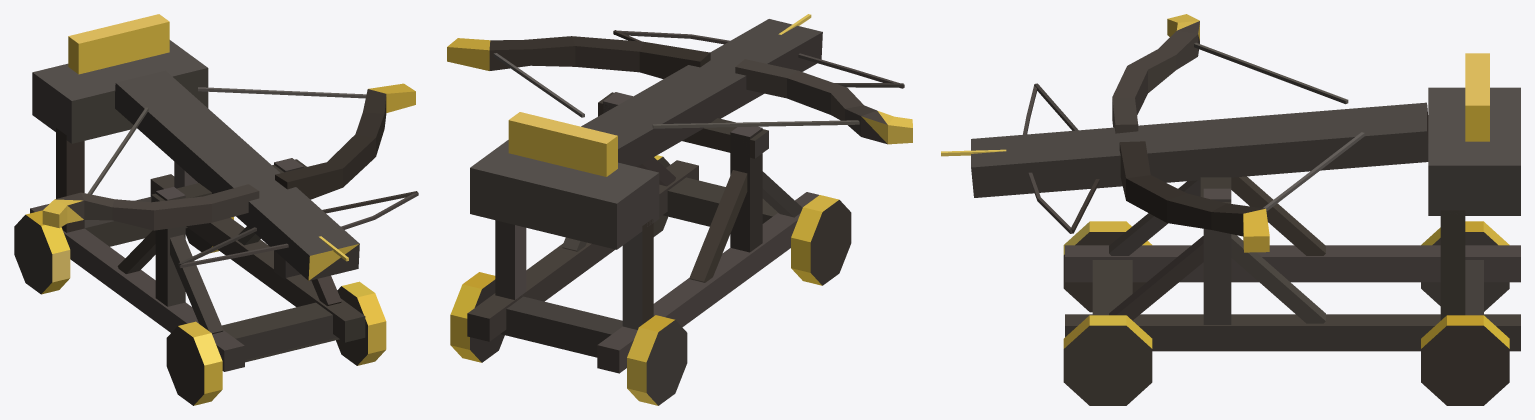
The model's file is ae_scorpion_royal_lod1.glb.
3 views of the same model, side by side, from view 1: azimuth 30°, elevation 25°; view 2: azimuth 150°, elevation 25°; view 3: azimuth 270°, elevation 25° (orthographic). The views are drawn at different scales.
Parts seen in each view (by area): view 1: AE_Forward_PlusZ; view 2: AE_Forward_PlusZ; view 3: AE_Forward_PlusZ.
Boxes of the visible parts, x1=… form: AE_Forward_PlusZ: x1=14, y1=14, x2=418, y2=405; AE_Forward_PlusZ: x1=447, y1=14, x2=912, y2=405; AE_Forward_PlusZ: x1=941, y1=14, x2=1520, y2=405.
Bounding box in the file's own units: 1.75 × 0.983 × 1.88.
2 materials, 2 textured.
